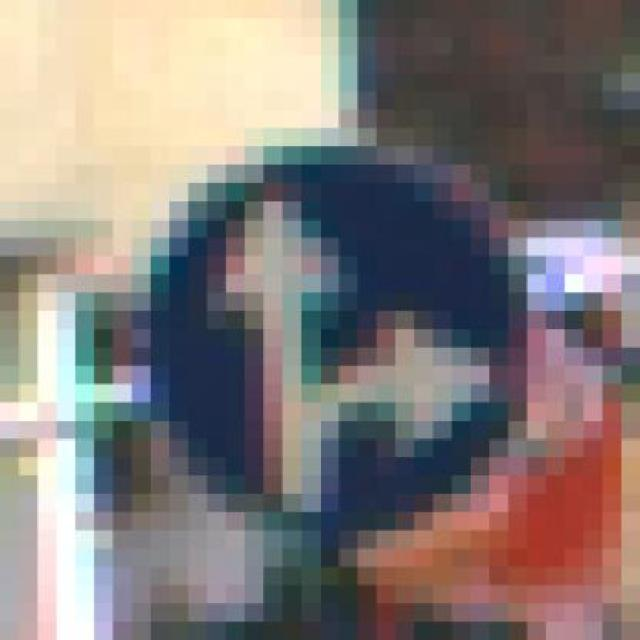Go Straight or Turn Right: (93, 91, 564, 567)
